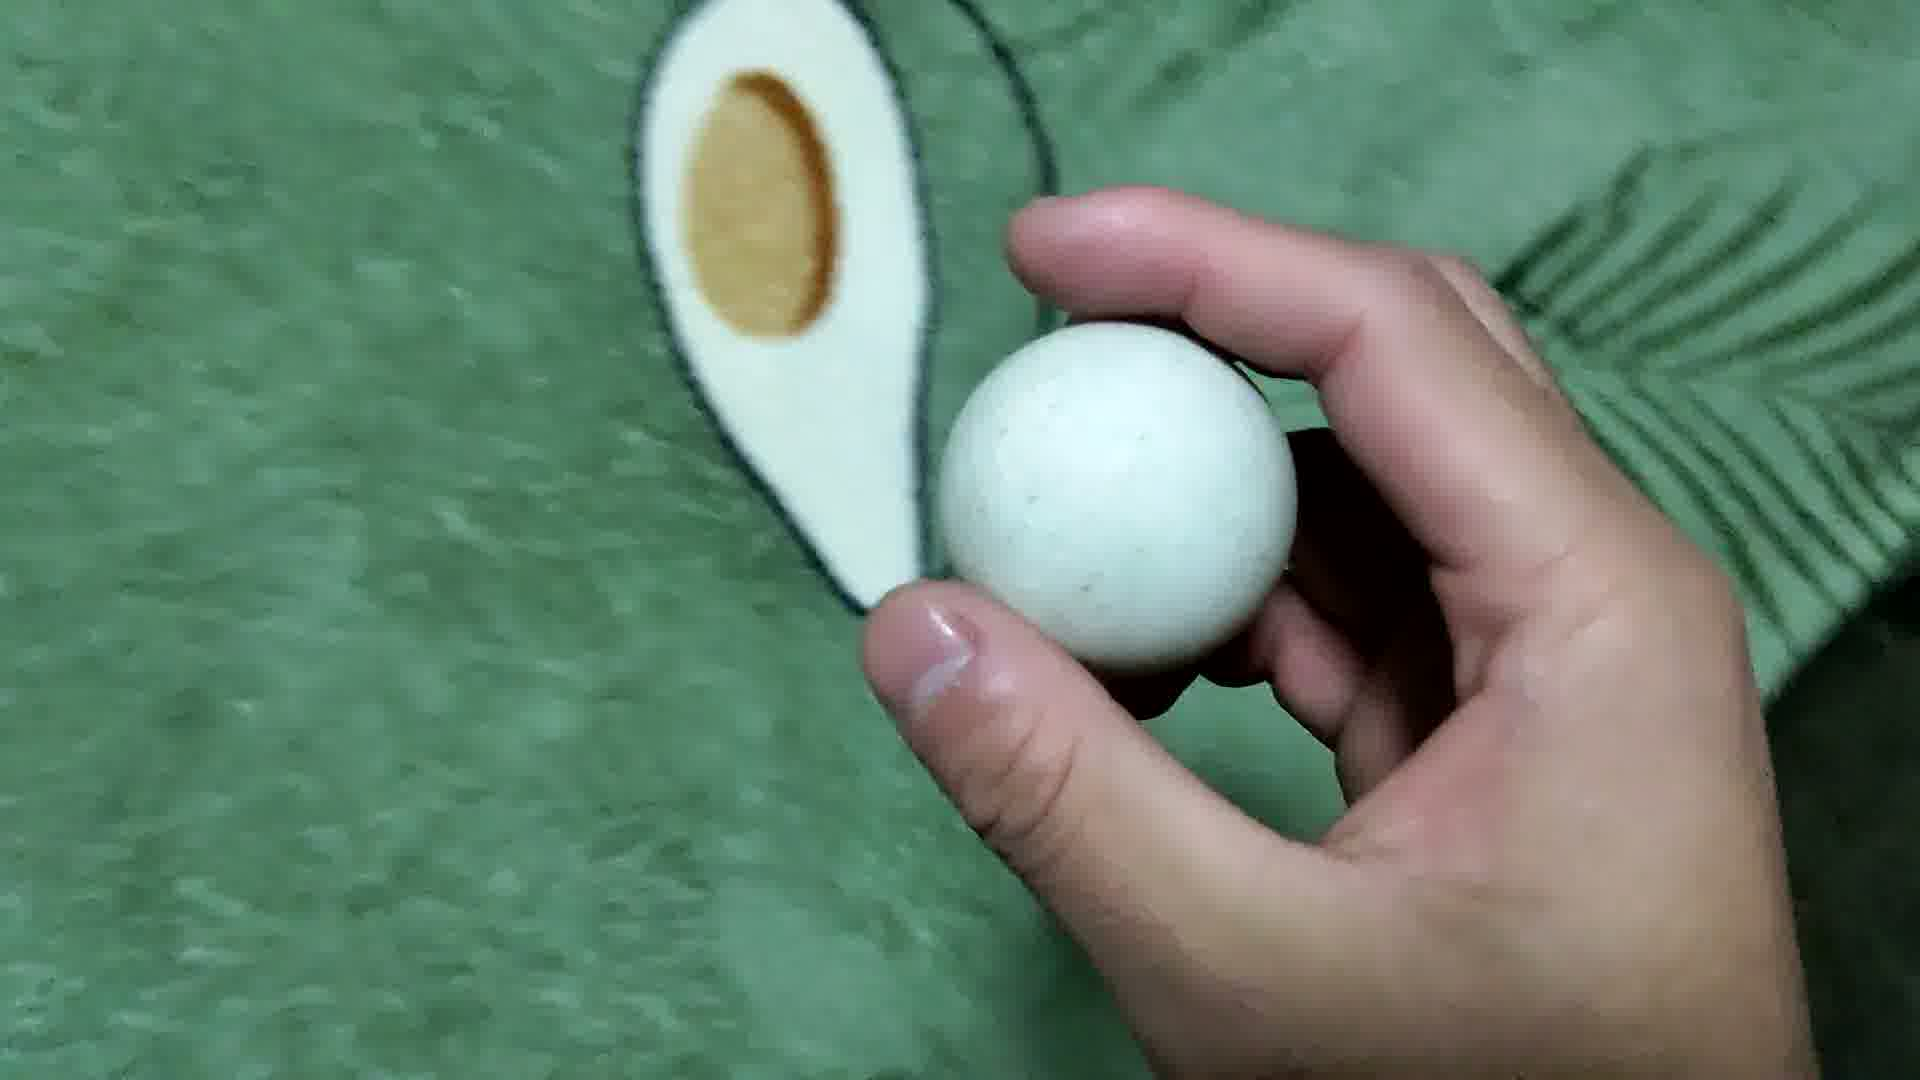Ball: (942, 319, 1304, 661)
